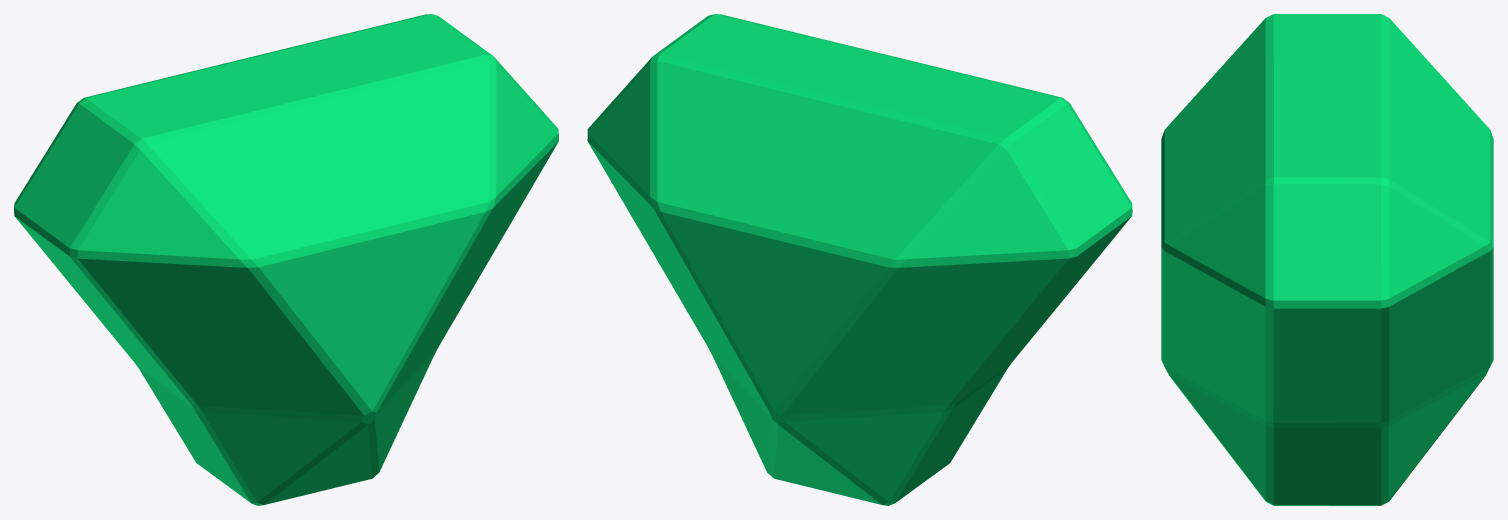
Rendered from EmeraldJewel.fbx.
3 renders of one model, left to right at view 1: azimuth 30°, elevation 25°; view 2: azimuth 150°, elevation 25°; view 3: azimuth 270°, elevation 25°, orthographic. The views are drawn at different scales.
Parts seen in each view (by area): view 1: EmeraldJewel; view 2: EmeraldJewel; view 3: EmeraldJewel.
Boxes of the visible parts, box(x1,y1,x2,y2) form: EmeraldJewel: box(14, 14, 558, 505); EmeraldJewel: box(587, 14, 1132, 505); EmeraldJewel: box(1161, 14, 1493, 505).
Bounding box in the file's own units: 129 × 99.83 × 78.38.
